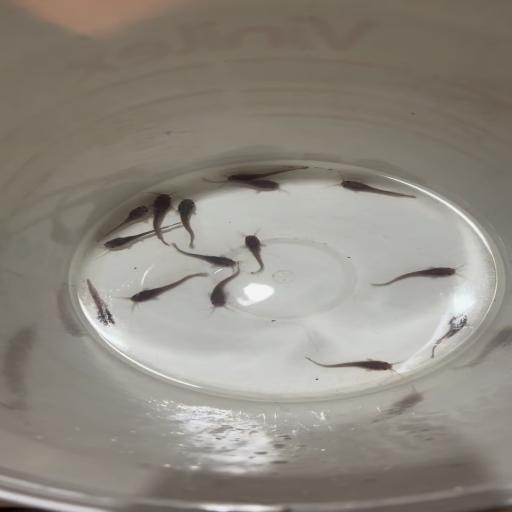lele: (124, 271, 209, 307), (102, 220, 185, 252), (329, 174, 418, 202), (367, 264, 467, 287), (142, 185, 179, 247), (425, 312, 472, 359), (301, 355, 405, 376), (96, 203, 150, 243), (166, 242, 237, 268), (203, 267, 243, 311), (236, 230, 274, 276), (84, 278, 118, 329), (198, 176, 288, 193), (174, 196, 202, 250), (223, 165, 312, 181)
